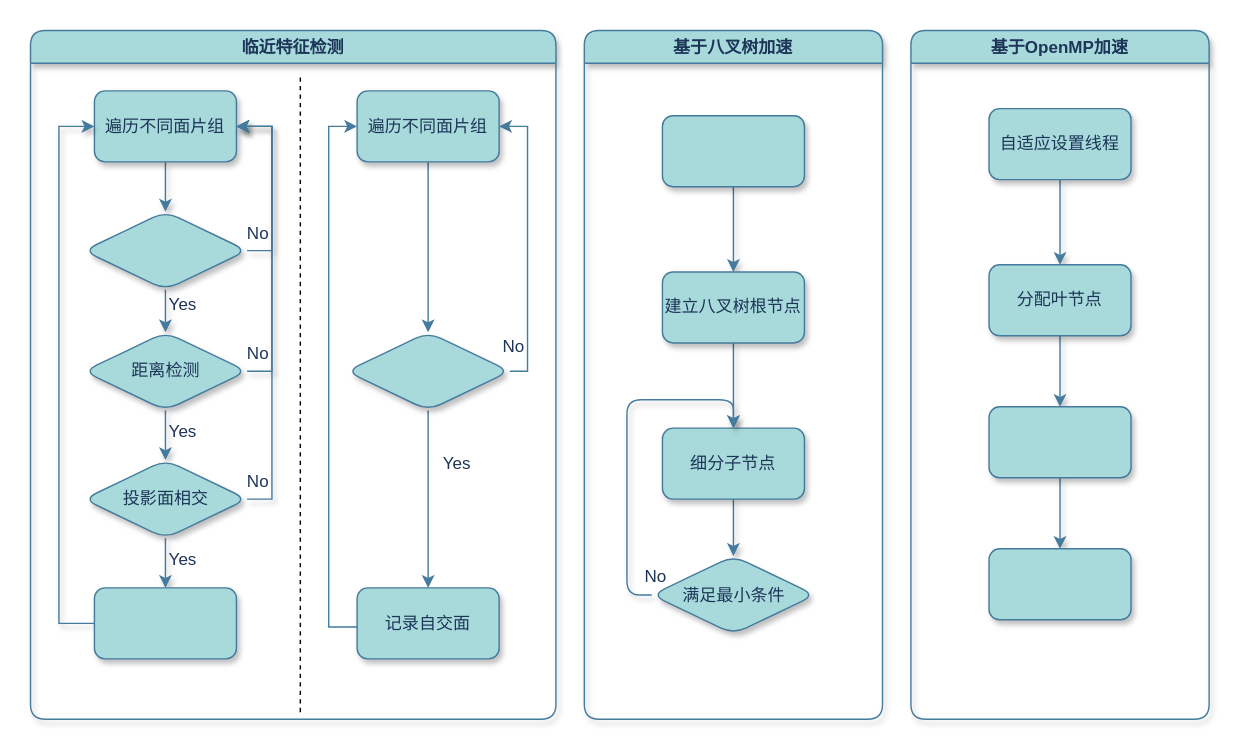
Some shapes in this 1243 by 754 pixel diagram are drawn without their labels. The shapes that lost their labels are listed below. From the top down, each one's centre as x and y in pixels, then its label:
point 734,153: 计算八叉树尺寸
point 166,252: 法向检测
point 428,372: 相交检测
point 1061,444: 创建并行线程
point 1061,586: 获取节点面片
point 166,625: 记录接触面
